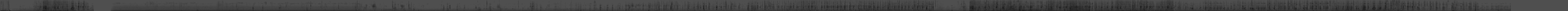Moan: (1167, 0, 1169, 11)
